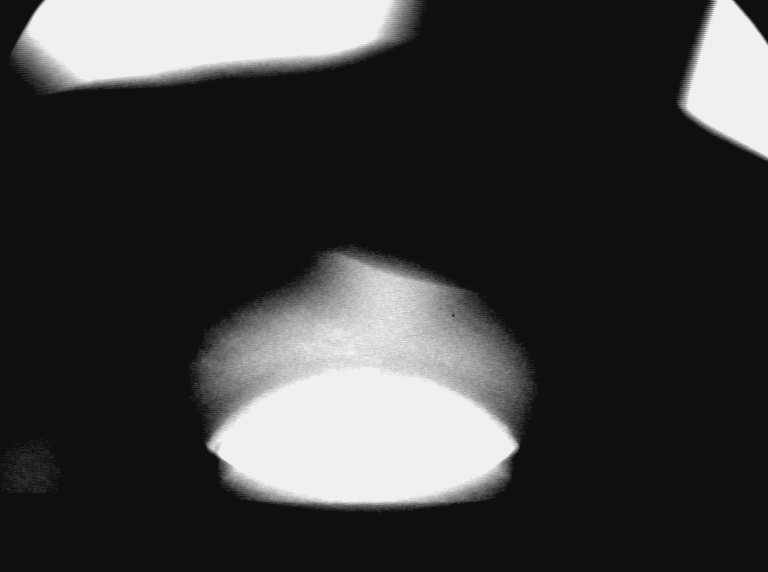defect: (328, 240, 479, 307)
